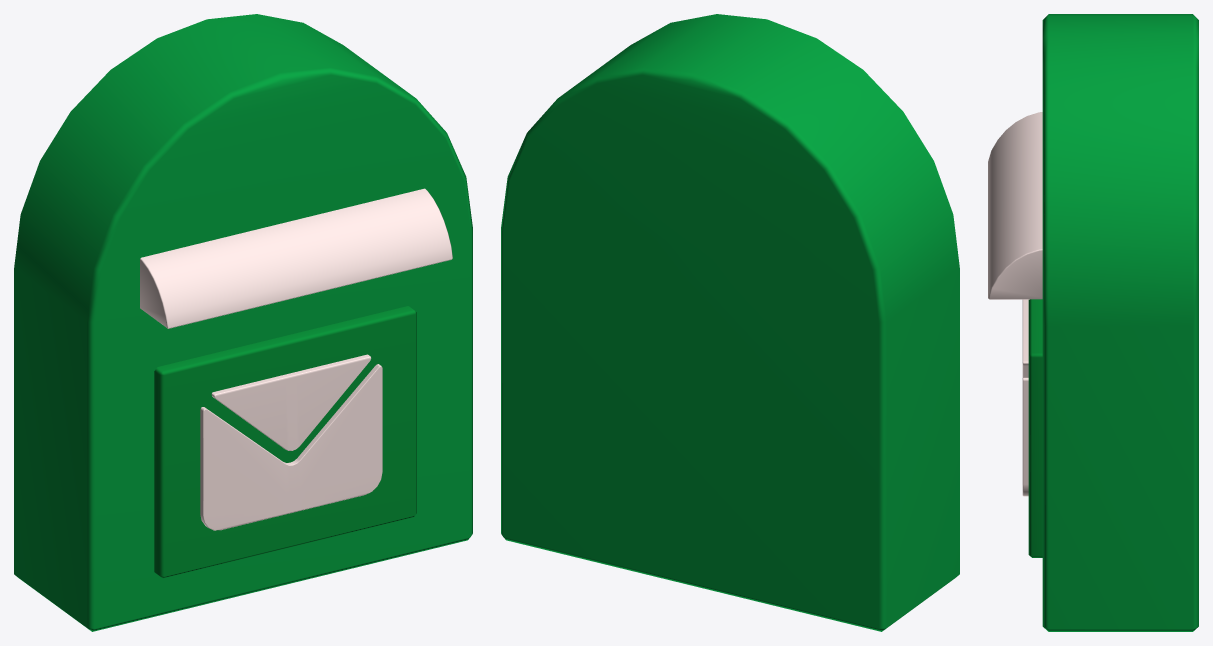
File: City_18_Mailbox_2.glb
The picture shows the model from 3 angles, left to right: view 1: azimuth 30°, elevation 25°; view 2: azimuth 150°, elevation 25°; view 3: azimuth 270°, elevation 25°; orthographic projection.
Visible parts, largest first — view 1: City_18_Mailbox_2; view 2: City_18_Mailbox_2; view 3: City_18_Mailbox_2.
Boxes of the visible parts, bbox=[...] form: City_18_Mailbox_2: bbox=[14, 14, 472, 631]; City_18_Mailbox_2: bbox=[501, 14, 959, 631]; City_18_Mailbox_2: bbox=[988, 14, 1198, 631].
Bounding box in the file's own units: 0.5775 × 0.7342 × 0.2763.
1 material, 1 textured.
